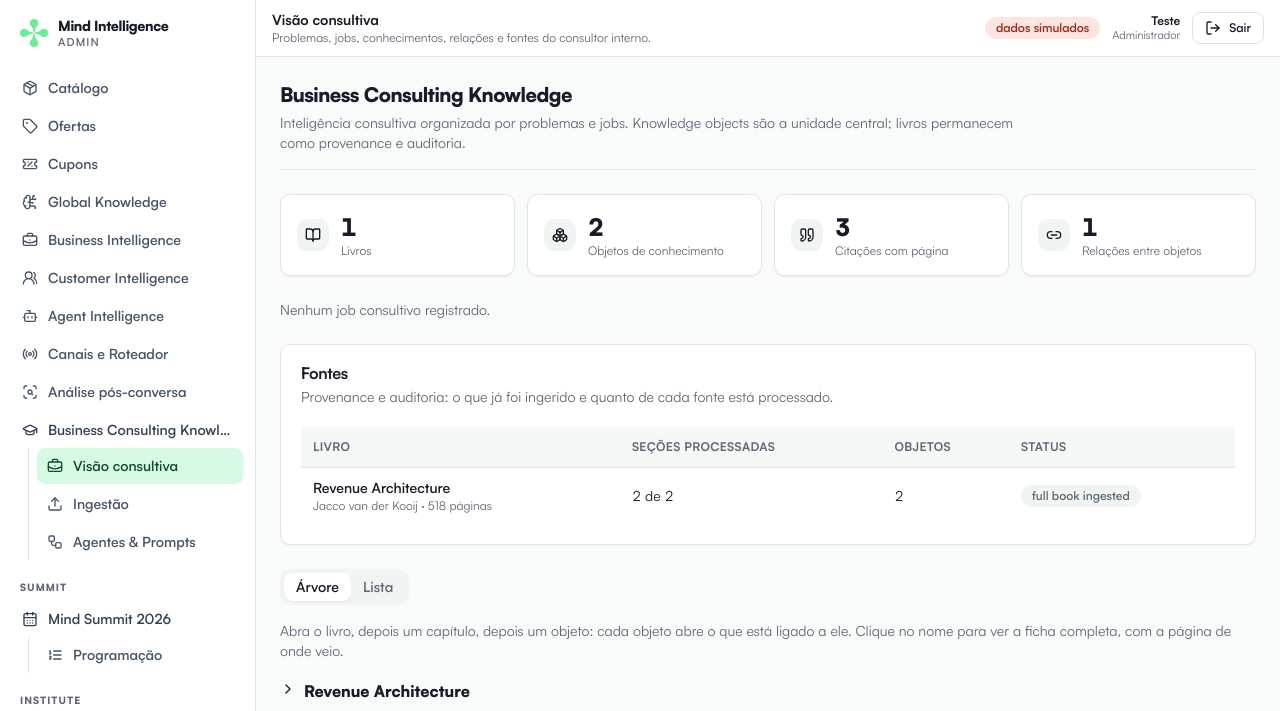
Test case: Business Consulting Knowledge › a lista busca por nome
Click the tab "Lista" at (378, 586), box x1=351 y1=572 x2=405 y2=600
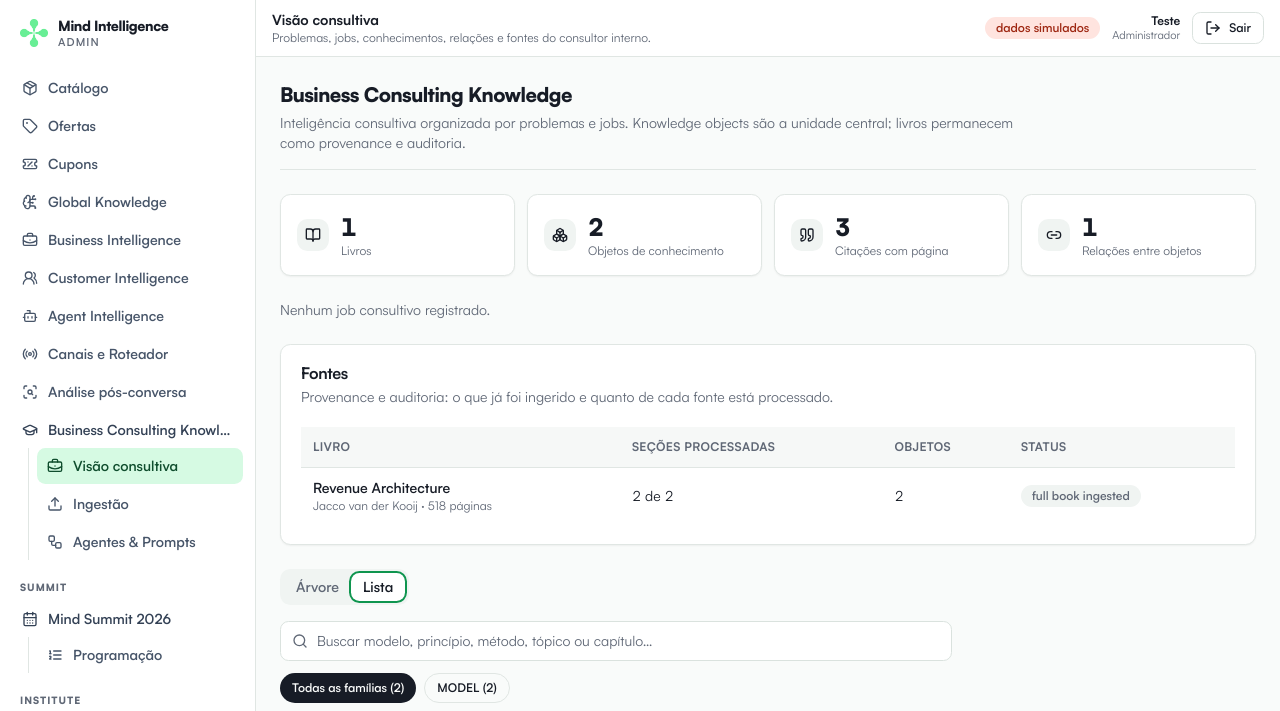
Type "bowtie" into the field with placeholder "Buscar modelo, princípio, método, tópico ou capítulo…" at (616, 640), box x1=280 y1=620 x2=952 y2=660
(page scrolled)
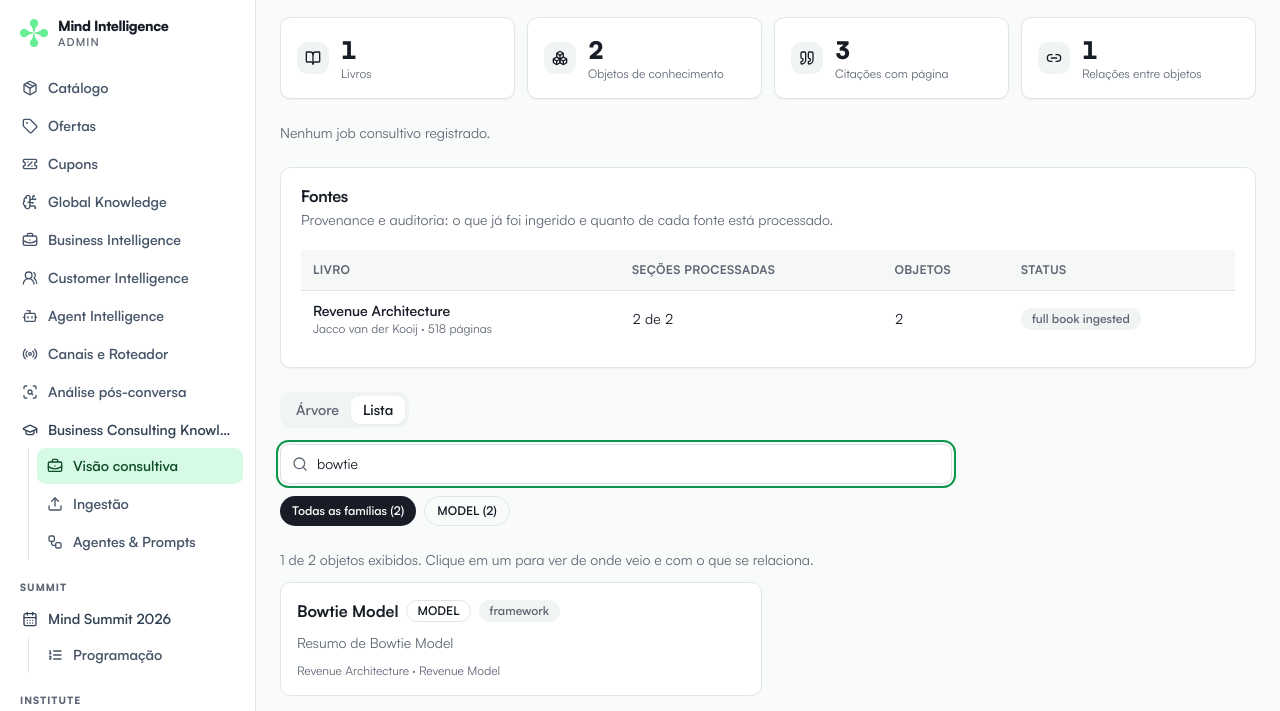
Result: the text "1 de 2 objetos exibidos." is shown at x1=280 y1=550 x2=814 y2=568
